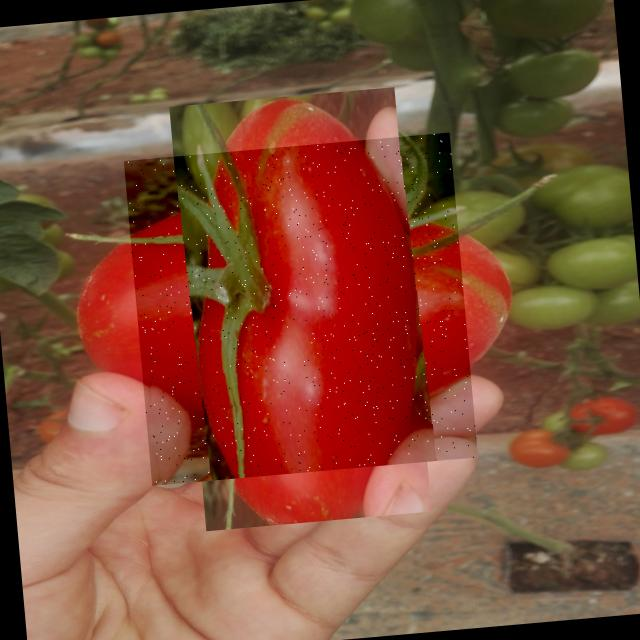Ripe Tomato: (124, 132, 478, 485)
